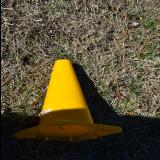cone: (11, 60, 121, 144)
